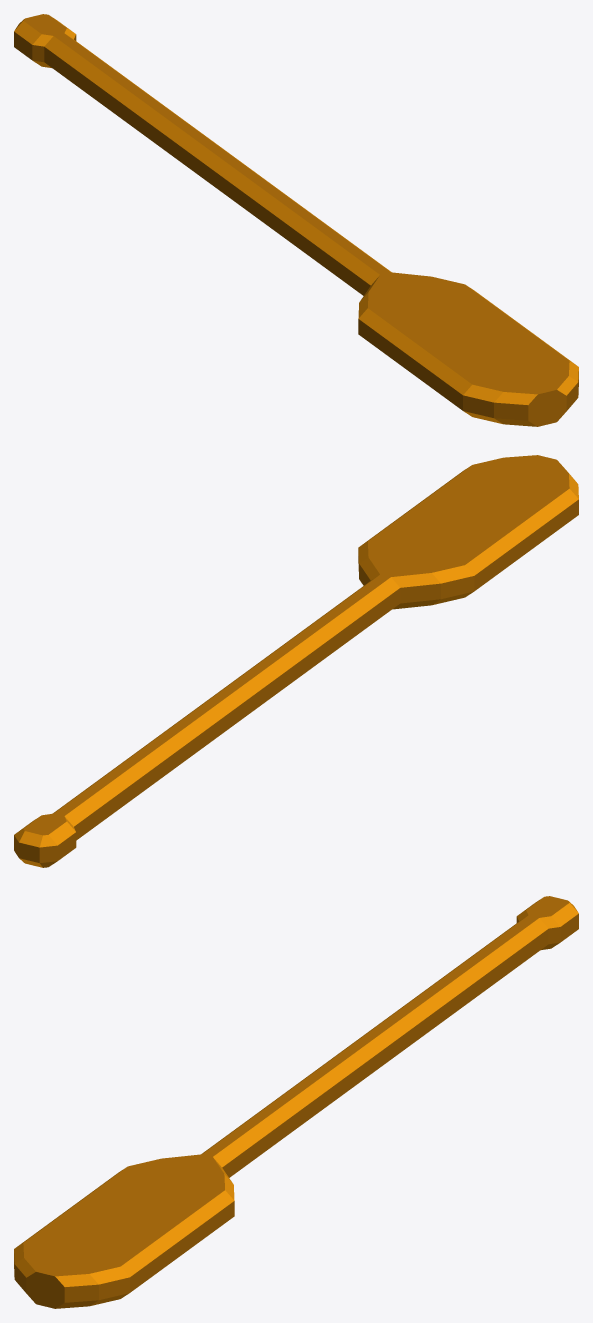
The model's file is PaddleOhDamV1.fbx.
3 views of the same model, one above another, from view 1: azimuth 30°, elevation 25°; view 2: azimuth 150°, elevation 25°; view 3: azimuth 330°, elevation 25° (orthographic).
Visible parts, largest first — view 1: Cube; view 2: Cube; view 3: Cube.
Part boxes in pixels (left/top/right/bottom): Cube: left=14, top=14, right=578, bottom=426; Cube: left=14, top=455, right=578, bottom=867; Cube: left=14, top=896, right=578, bottom=1308.
Bounding box in the file's own units: 101 × 27.15 × 785.
